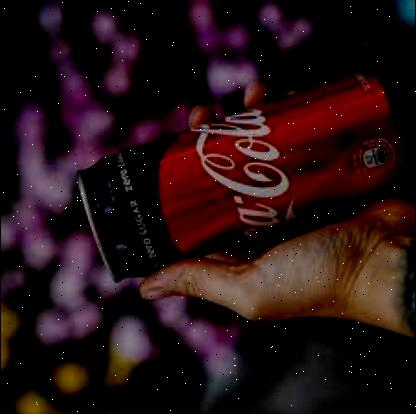Can: (74, 65, 411, 282)
